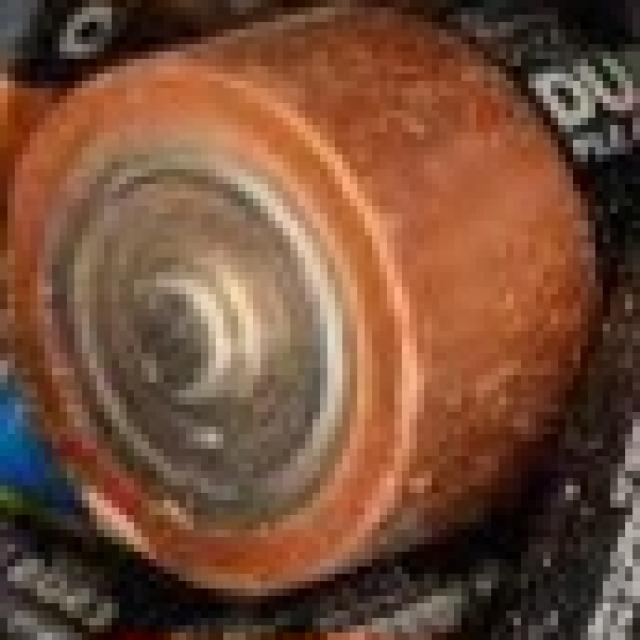battery: (44, 0, 640, 596)
